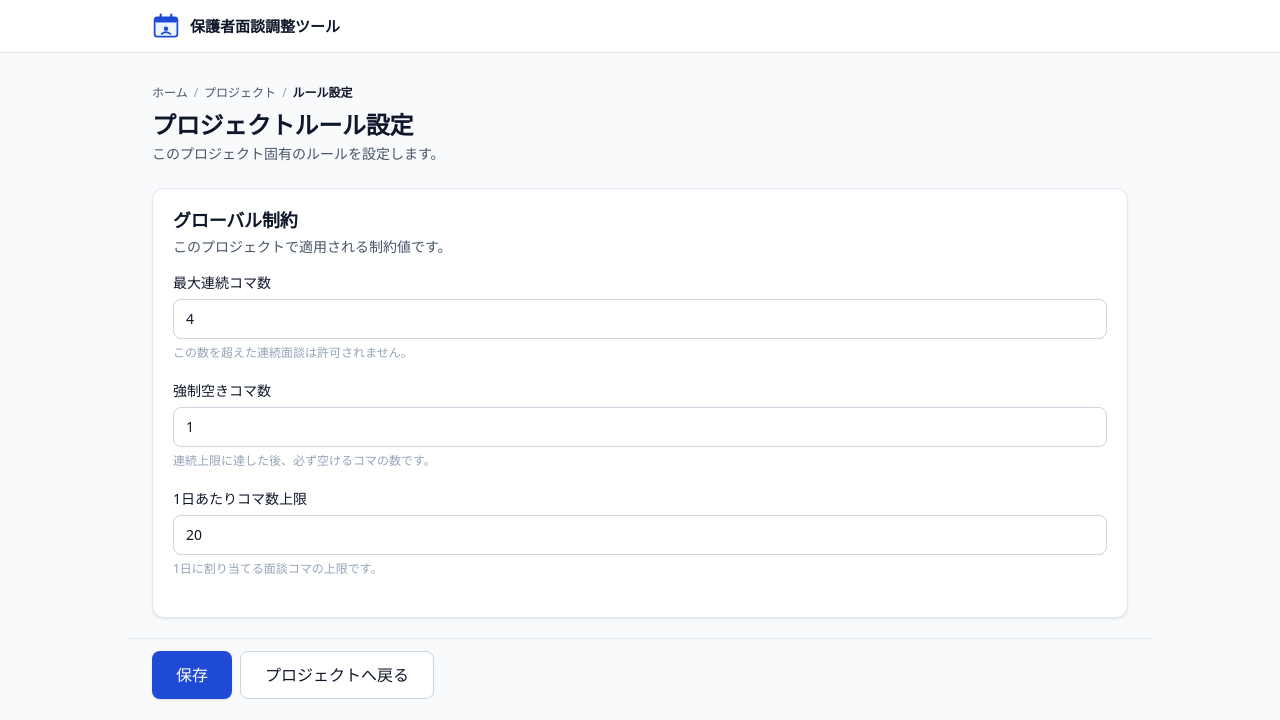
Scenario: ProjectRulesPage › 保存成功時にメッセージを表示する
Click the button "保存". click: (192, 675)
box: left=152, top=651, right=232, bottom=699
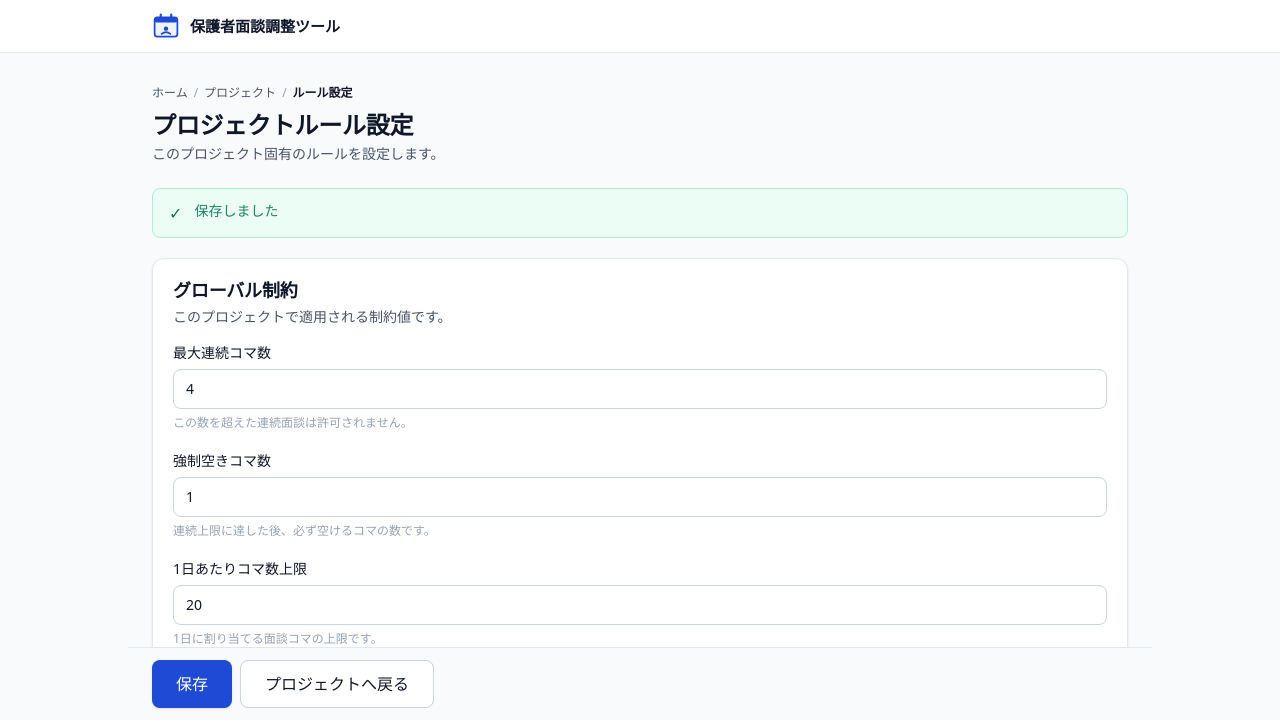
Result: the message "✓ 保存しました" is shown at left=152, top=188, right=1128, bottom=238
